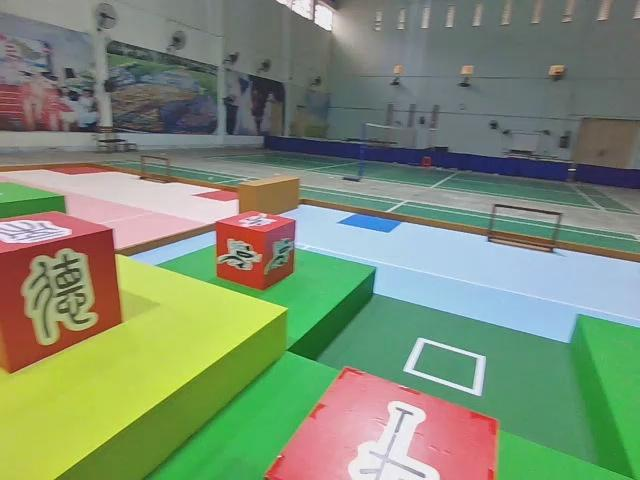R1: (215, 209, 298, 292)
R2 Fake: (1, 209, 123, 375)
R2 Real: (263, 365, 500, 480)
